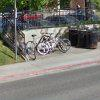Bicycle: (26, 27, 81, 74)
